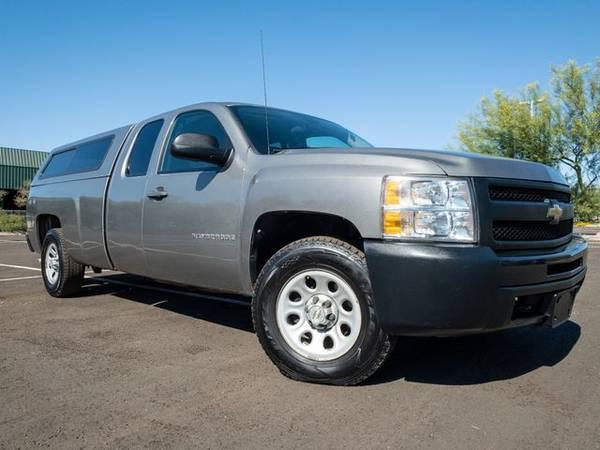Front_Bumper: (367, 236, 592, 339)
Front_Fender: (239, 155, 445, 300)
Front_Right_Door: (141, 172, 244, 295)
Front_Right_Window: (154, 111, 238, 173)
Front_Windshield: (233, 108, 379, 157)
Grille: (476, 181, 580, 257)
Hood: (289, 151, 571, 186)
Rear_Fender: (22, 126, 130, 267)
Rear_Right_Door: (103, 175, 149, 278)
Rear_Right_Window: (109, 118, 173, 177)
Right_Headlight: (380, 177, 479, 249)
Roof: (113, 102, 261, 159)
Wheel: (253, 235, 391, 386), (38, 230, 87, 297)
